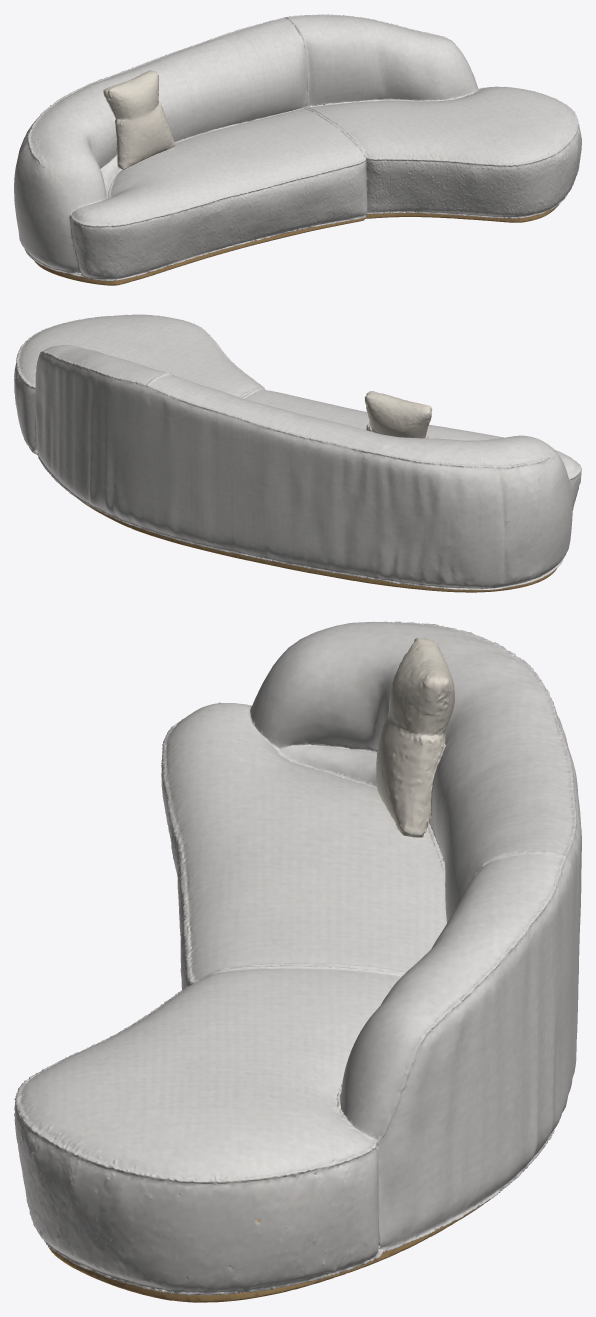
File: contemporary_sofa_lnxp3p.glb
3 views of the same model, one above another, from view 1: azimuth 30°, elevation 25°; view 2: azimuth 150°, elevation 25°; view 3: azimuth 270°, elevation 25° (orthographic). The views are drawn at different scales.
Visible parts, largest first — view 1: world; view 2: world; view 3: world.
Part boxes in pixels (x1,y1,x2,y2): world: (14, 14, 581, 285); world: (14, 314, 581, 592); world: (14, 621, 581, 1302).
Size of the model in its own units: 0.9943 by 0.275 by 0.4871.
1 material, 1 textured.
